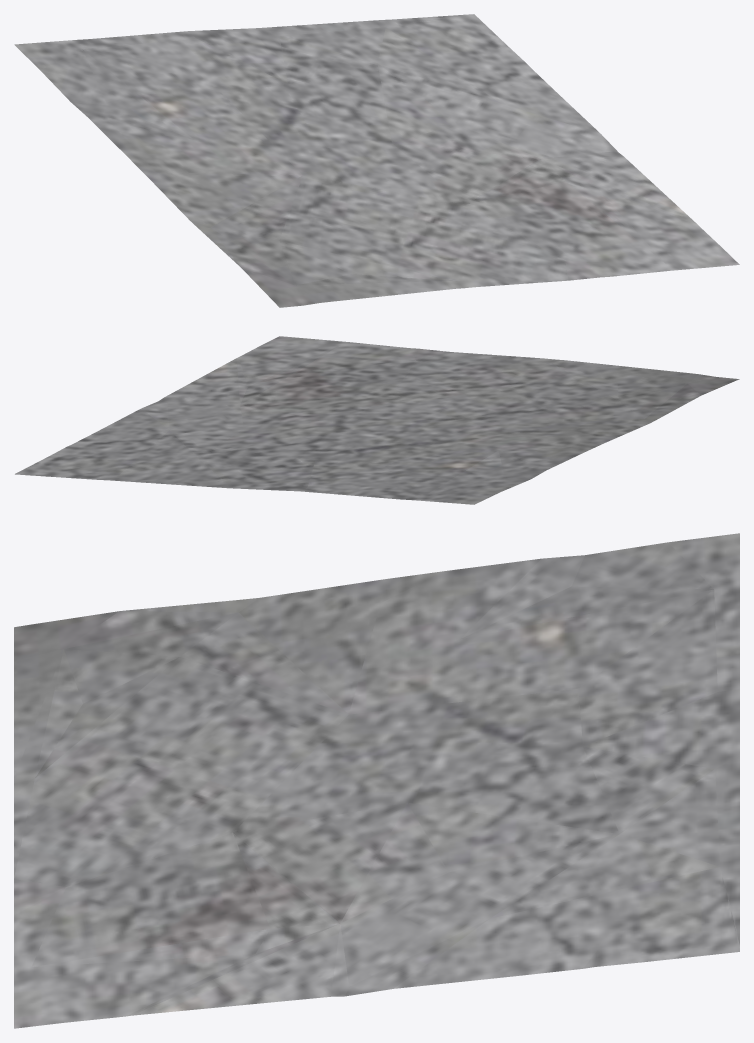
3 views of the same model, one above another, from view 1: azimuth 30°, elevation 25°; view 2: azimuth 150°, elevation 25°; view 3: azimuth 270°, elevation 25° (orthographic). The views are drawn at different scales.
Size of the model in its own units: 1.67 by 0.4803 by 1.67.
Materials: 3 (3 with a texture image).
